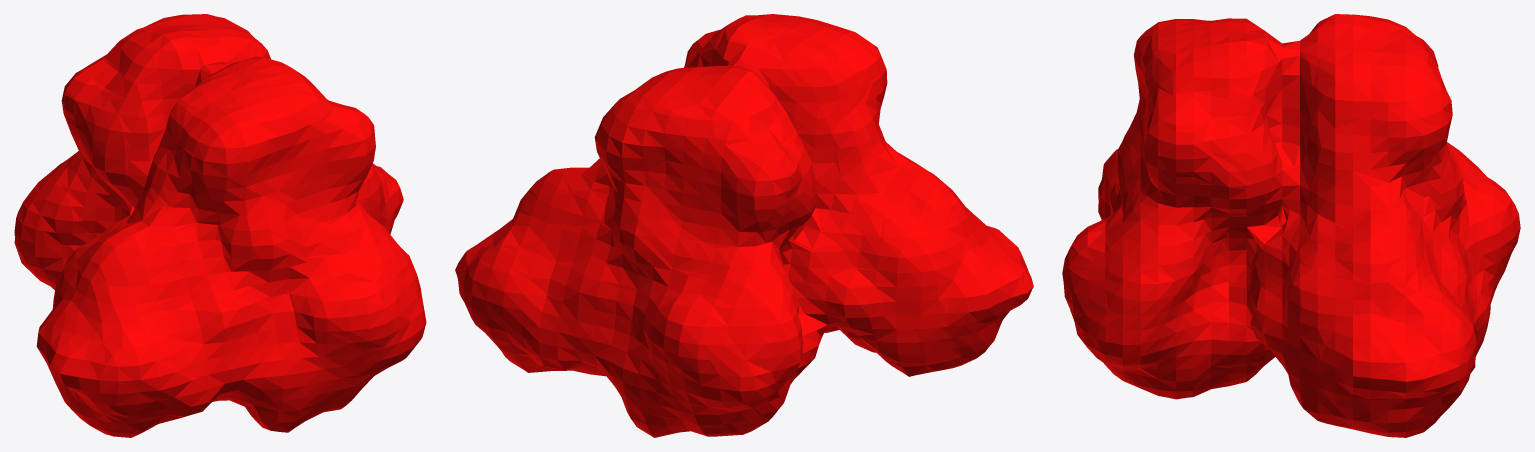
Rendered from ispH_coarse.dae.
The picture shows the model from 3 angles, left to right: view 1: azimuth 30°, elevation 25°; view 2: azimuth 150°, elevation 25°; view 3: azimuth 270°, elevation 25°; orthographic projection. The views are drawn at different scales.
Visible parts, largest first — view 1: ispH; view 2: ispH; view 3: ispH.
Boxes of the visible parts, x1,y1,x2,y2 form: ispH: (14, 14, 426, 437); ispH: (455, 14, 1033, 437); ispH: (1062, 14, 1520, 437).
Bounding box in the file's own units: 86.26 × 60.39 × 72.06.
